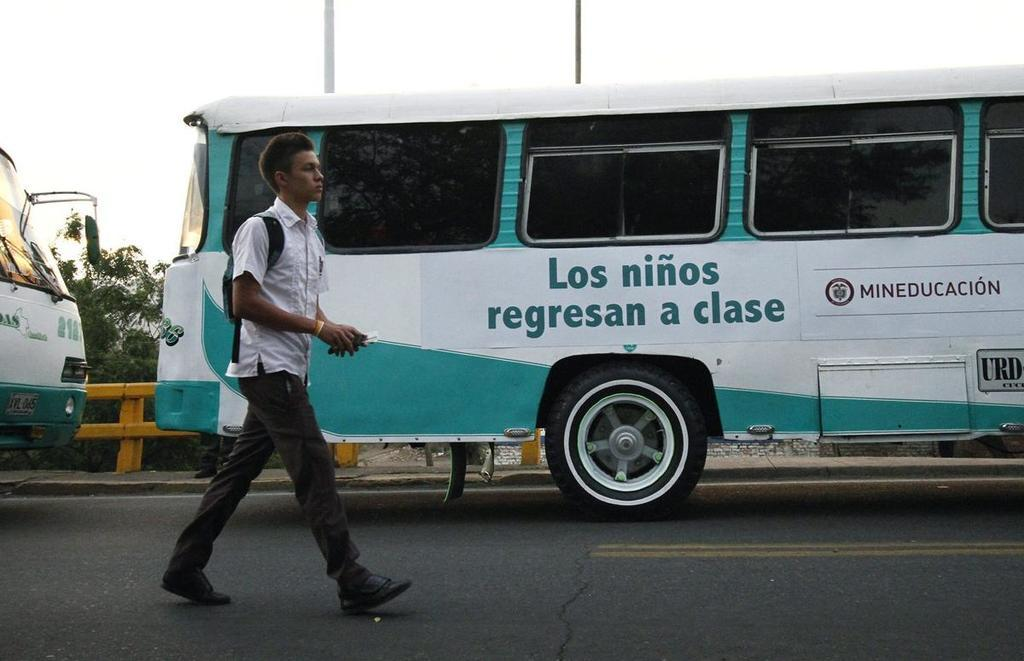Bus: (150, 61, 1023, 522), (0, 149, 93, 447)
